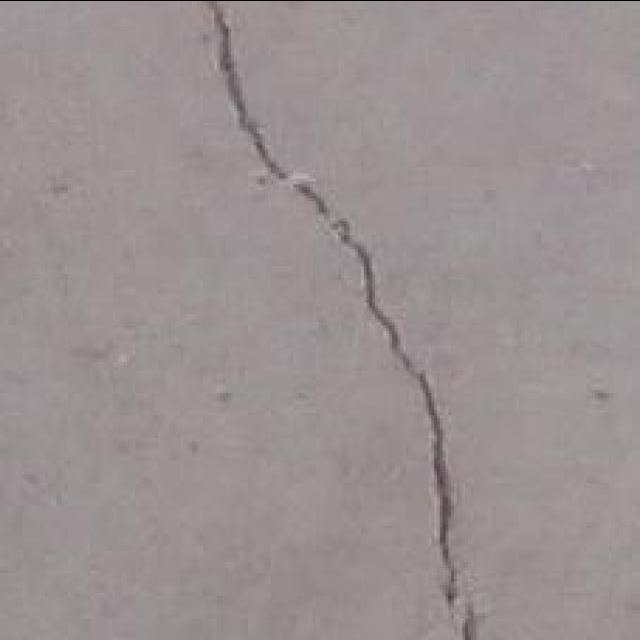Crack: (204, 2, 485, 637)
